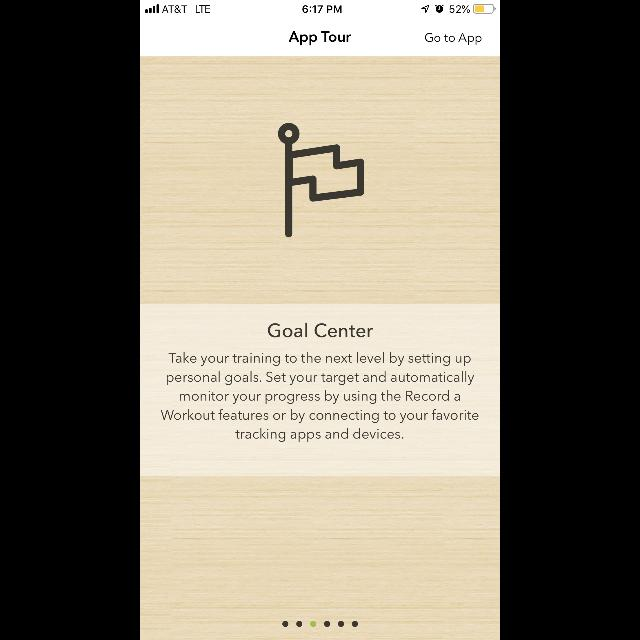image: (277, 122, 363, 236)
pageindicator: (280, 618, 360, 628)
text: (159, 351, 479, 441), (267, 322, 373, 338), (289, 30, 351, 46), (424, 32, 482, 46)
uppertaskbar: (140, 0, 500, 14)
